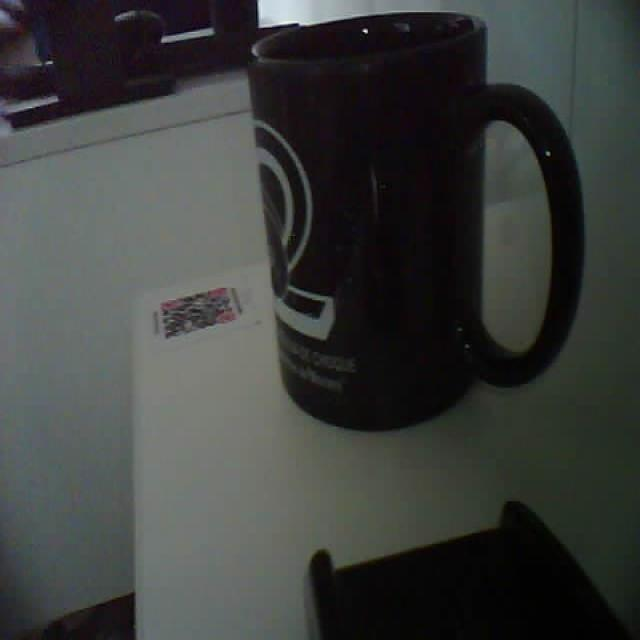caneca: (249, 12, 583, 429)
